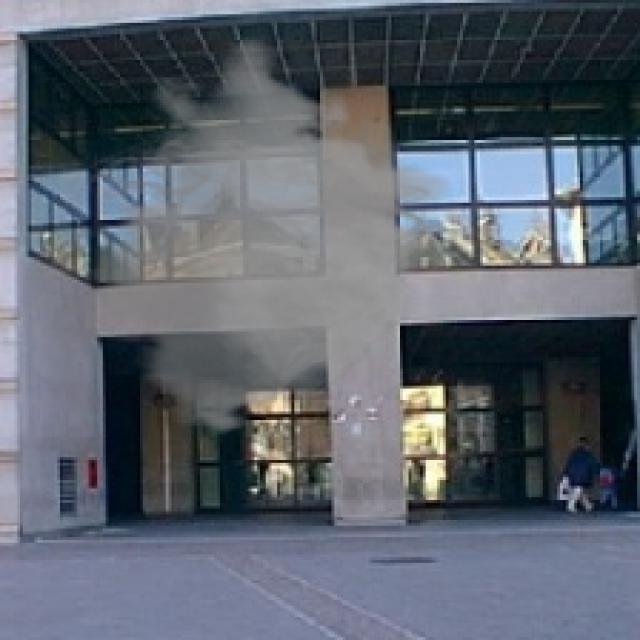smoke: (57, 34, 466, 437)
